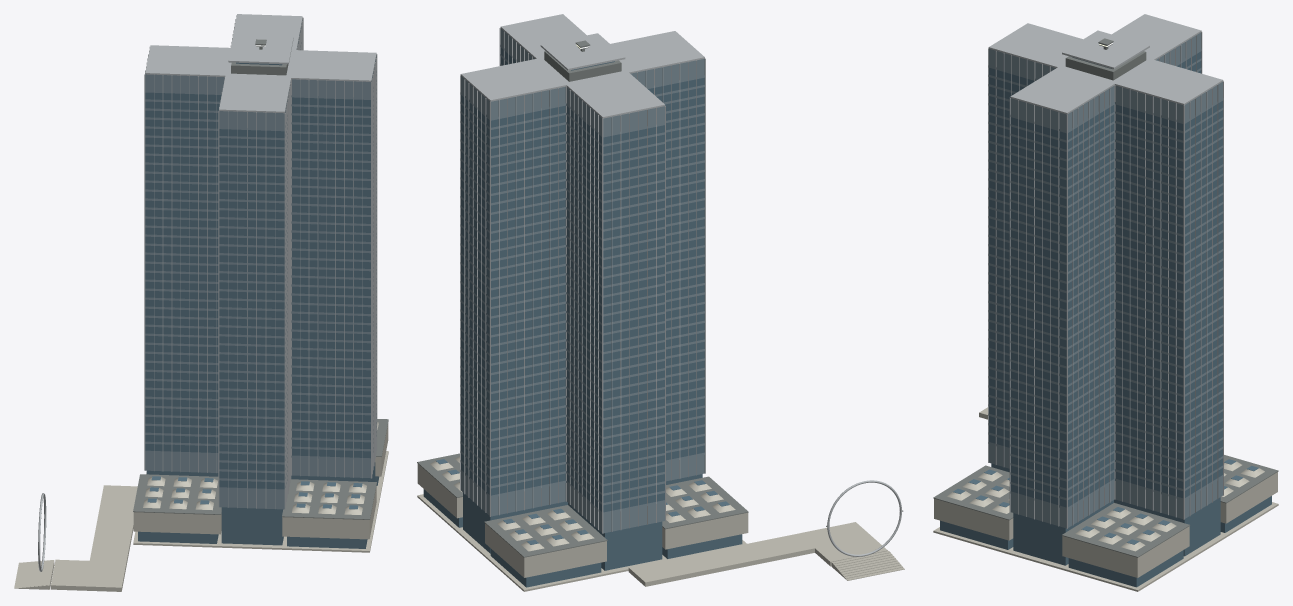
File: place-ville-marie-far.glb
3 views of the same model, side by side, from view 1: azimuth 30°, elevation 25°; view 2: azimuth 150°, elevation 25°; view 3: azimuth 270°, elevation 25° (orthographic). The views are drawn at different scales.
Visible parts, largest first — view 1: place-ville-marie-0-glass, place-ville-marie-0-museum, place-ville-marie-0-lattice, place-ville-marie-0-concrete, place-ville-marie-0-roof; view 2: place-ville-marie-0-glass, place-ville-marie-0-museum, place-ville-marie-0-lattice, place-ville-marie-0-concrete, place-ville-marie-0-roof; view 3: place-ville-marie-0-glass, place-ville-marie-0-museum, place-ville-marie-0-lattice, place-ville-marie-0-concrete, place-ville-marie-0-roof.
Part boxes in pixels (x1,y1,x2,y2): place-ville-marie-0-glass: [138, 62, 379, 548]; place-ville-marie-0-museum: [145, 19, 376, 509]; place-ville-marie-0-lattice: [38, 14, 377, 571]; place-ville-marie-0-concrete: [14, 422, 388, 591]; place-ville-marie-0-roof: [38, 39, 388, 549]; place-ville-marie-0-glass: [423, 47, 742, 587]; place-ville-marie-0-museum: [460, 28, 704, 533]; place-ville-marie-0-lattice: [460, 14, 901, 556]; place-ville-marie-0-concrete: [417, 456, 904, 591]; place-ville-marie-0-roof: [417, 40, 903, 557]; place-ville-marie-0-glass: [940, 51, 1271, 587]; place-ville-marie-0-museum: [988, 32, 1223, 528]; place-ville-marie-0-lattice: [988, 14, 1223, 528]; place-ville-marie-0-concrete: [933, 407, 1278, 591]; place-ville-marie-0-roof: [933, 38, 1278, 557].
Bounding box in the file's own units: 184 × 191 × 125.
